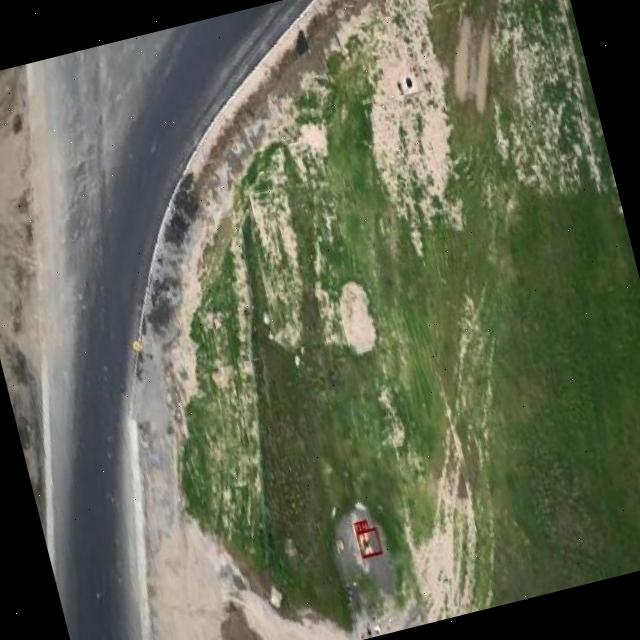fire: (355, 526, 381, 558)
